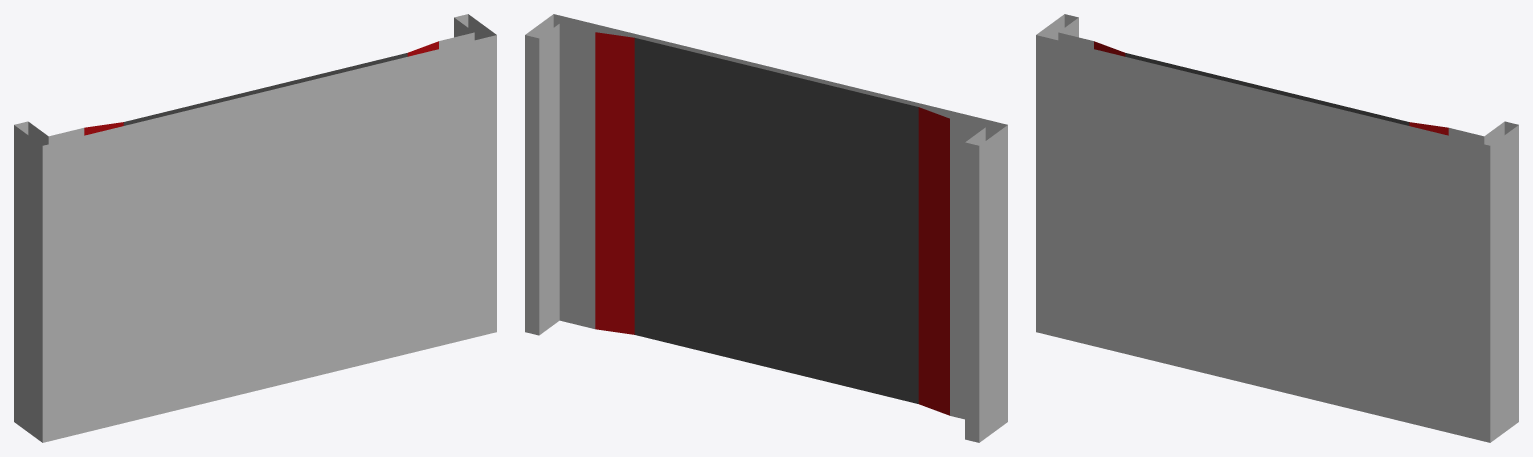
The model's file is Straight_Flat_Long.fbx.
The picture shows the model from 3 angles, left to right: view 1: azimuth 30°, elevation 25°; view 2: azimuth 150°, elevation 25°; view 3: azimuth 330°, elevation 25°; orthographic projection.
Parts seen in each view (by area): view 1: Straight_Flat_Long; view 2: Straight_Flat_Long; view 3: Straight_Flat_Long.
Boxes of the visible parts, <box> form: Straight_Flat_Long: <box>14,14,496,442</box>; Straight_Flat_Long: <box>525,14,1007,442</box>; Straight_Flat_Long: <box>1036,14,1518,442</box>.
Bounding box in the file's own units: 1280 × 800 × 140.
